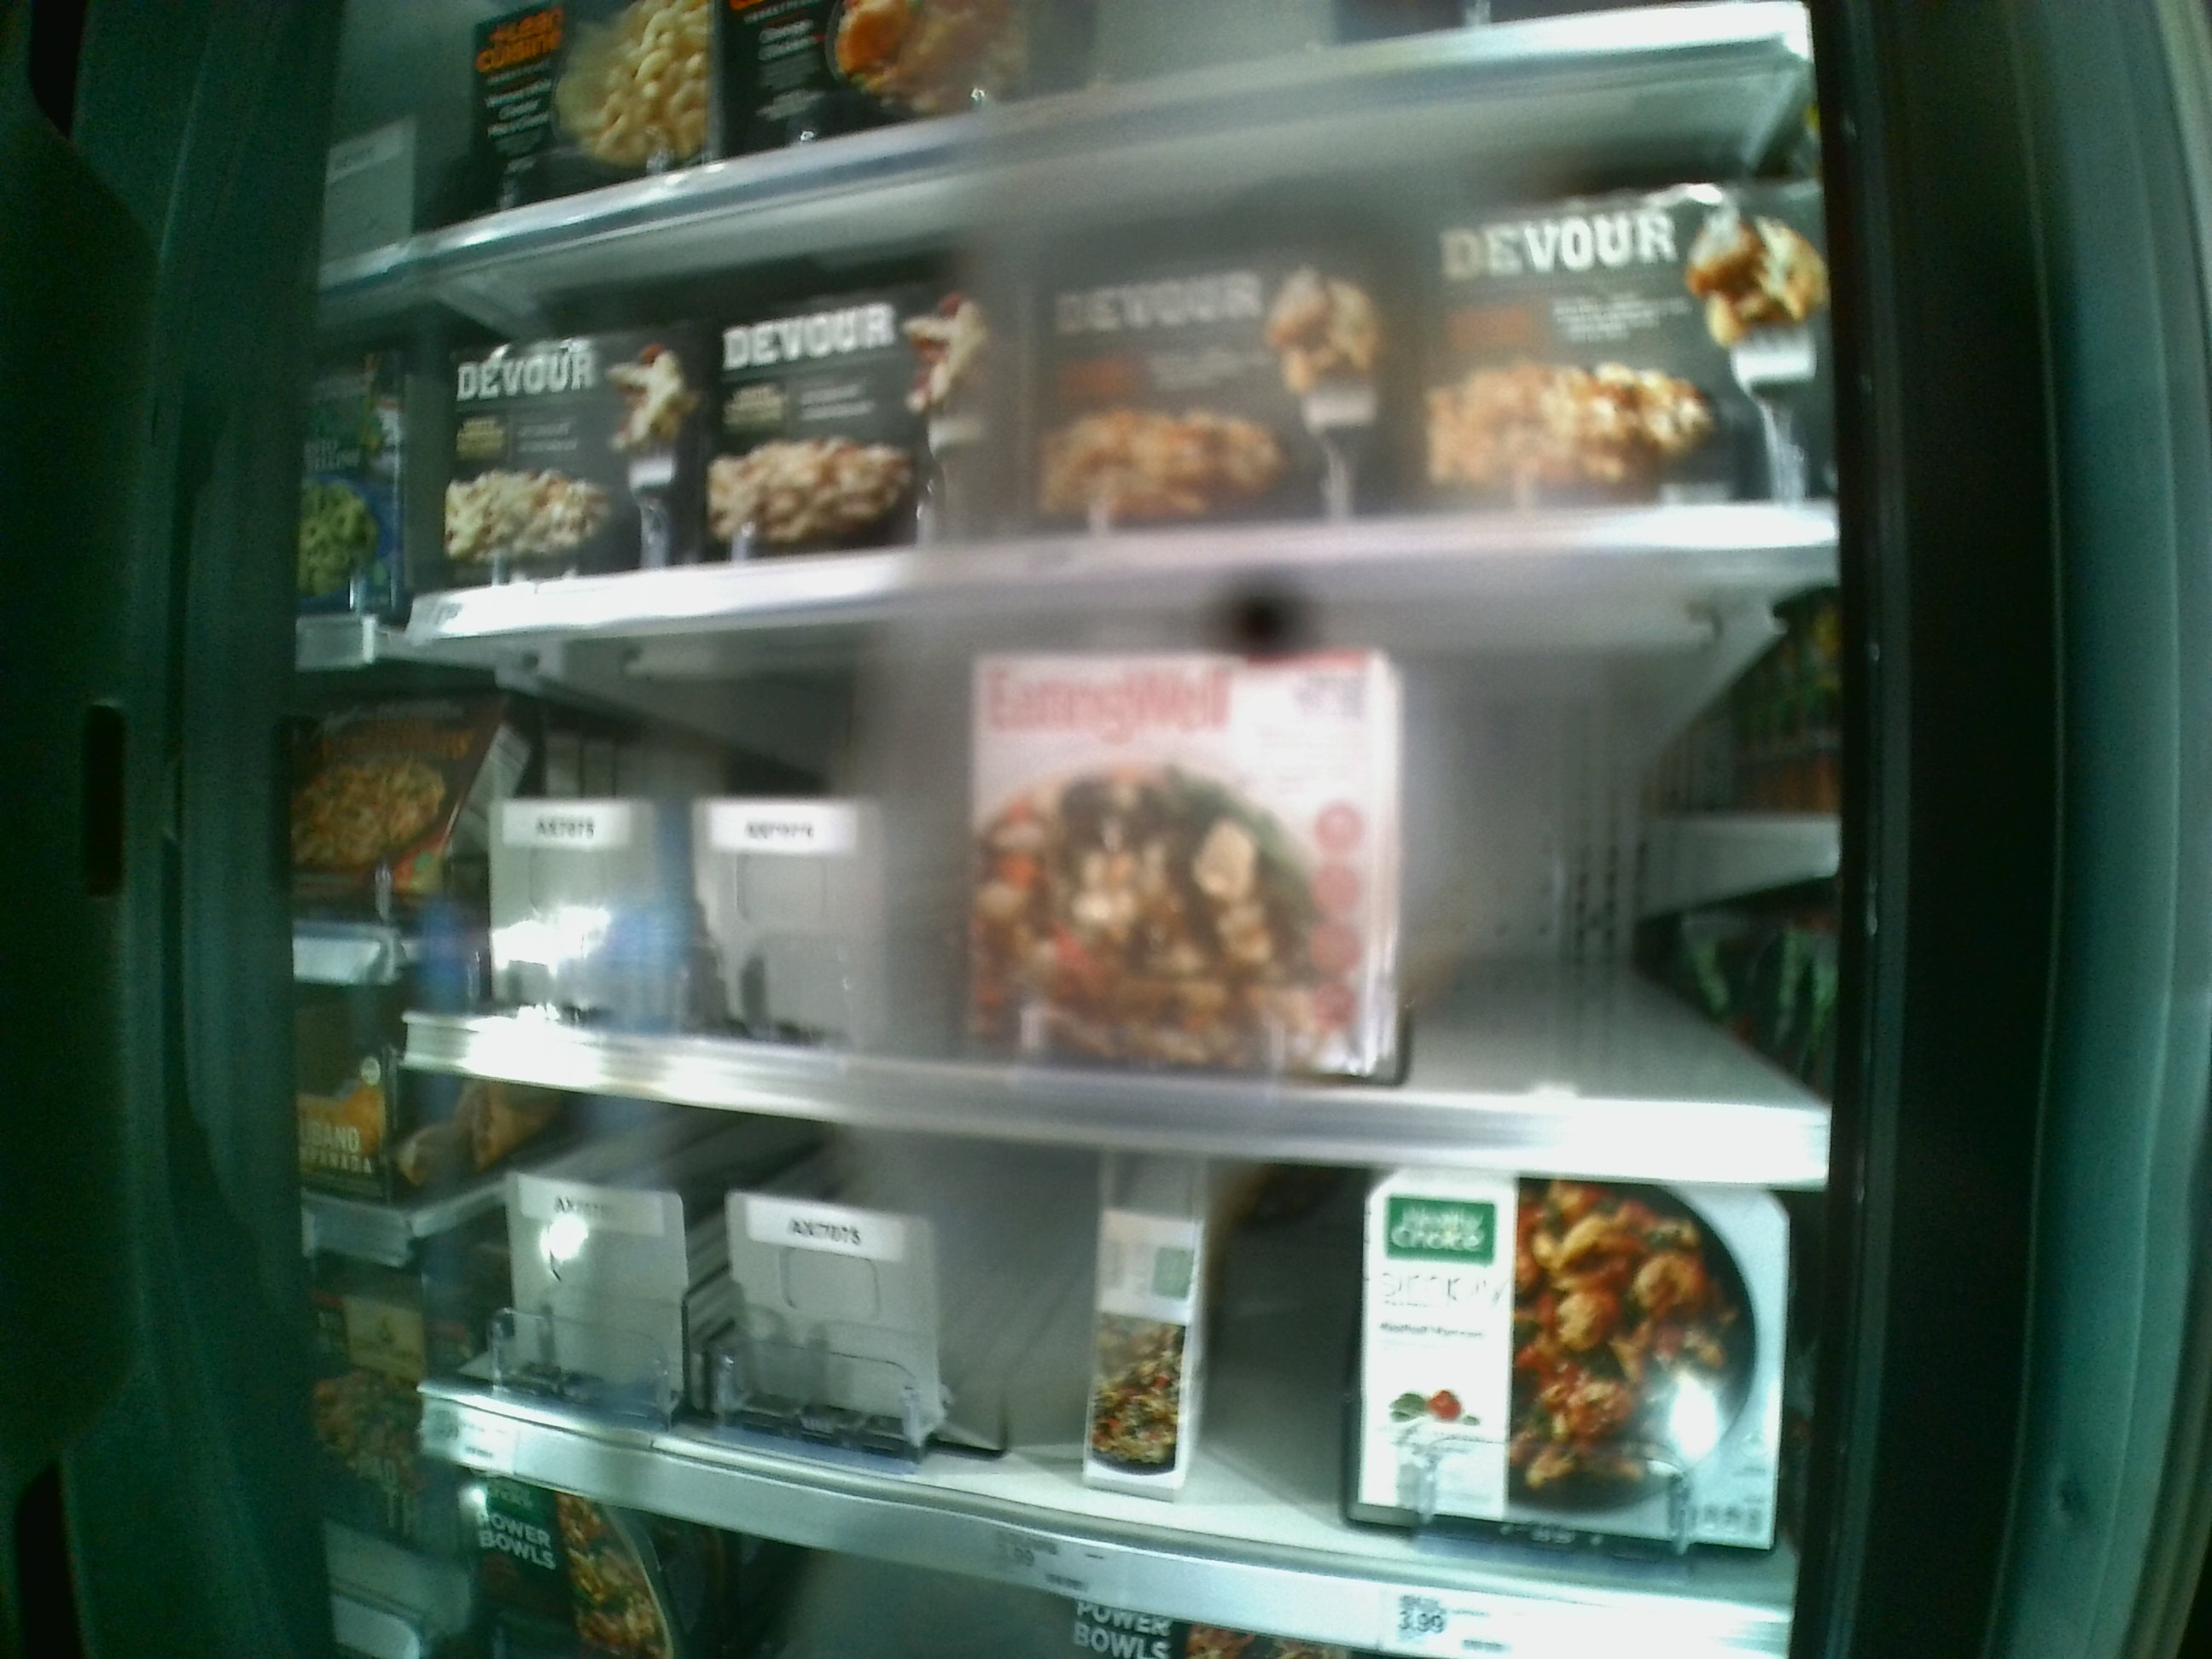shelf: (399, 547, 1839, 1185)
